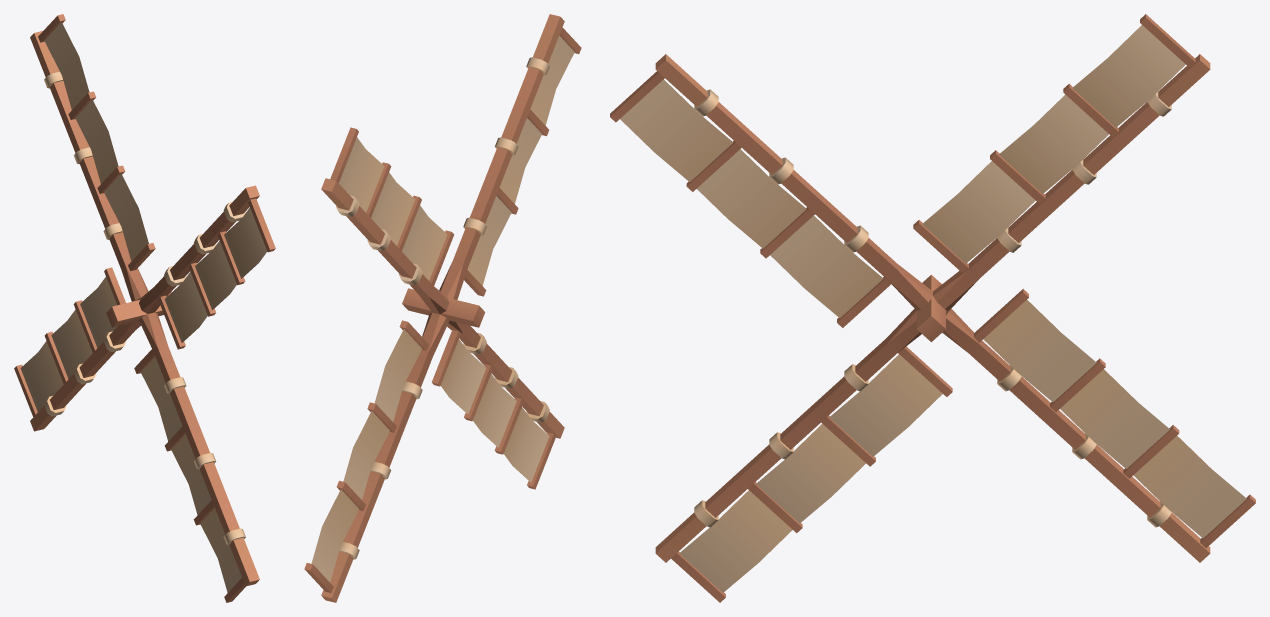
The model's file is windmill.glb.
3 views of the same model, side by side, from view 1: azimuth 30°, elevation 25°; view 2: azimuth 150°, elevation 25°; view 3: azimuth 270°, elevation 25° (orthographic). The views are drawn at different scales.
Visible parts, largest first — view 1: windmill; view 2: windmill; view 3: windmill.
Boxes of the visible parts, bbox=[...] form: windmill: bbox=[14, 14, 275, 602]; windmill: bbox=[304, 14, 581, 602]; windmill: bbox=[610, 14, 1255, 602].
Size of the model in its own units: 0.4709 by 3.11 by 3.11.
Materials: 1 (1 with a texture image).
